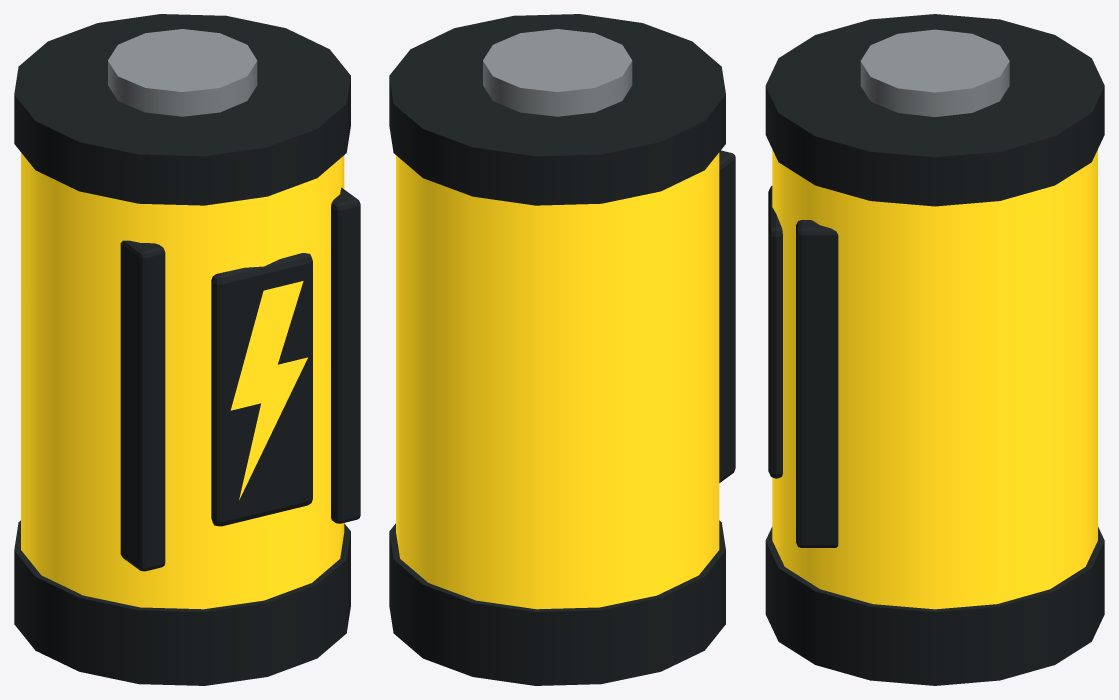
File: nitro_token.glb
3 renders of one model, left to right at view 1: azimuth 30°, elevation 25°; view 2: azimuth 150°, elevation 25°; view 3: azimuth 270°, elevation 25°, orthographic.
Parts seen in each view (by area): view 1: nitro_token__Black_print_and_polymer, nitro_token__Energy_yellow_enamel, nitro_token__Steel_contacts; view 2: nitro_token__Energy_yellow_enamel, nitro_token__Black_print_and_polymer, nitro_token__Steel_contacts; view 3: nitro_token__Energy_yellow_enamel, nitro_token__Black_print_and_polymer, nitro_token__Steel_contacts.
Boxes of the visible parts, x1,y1,x2,y2 form: nitro_token__Black_print_and_polymer: (14, 14, 360, 685); nitro_token__Energy_yellow_enamel: (21, 152, 344, 609); nitro_token__Steel_contacts: (108, 29, 257, 116); nitro_token__Energy_yellow_enamel: (396, 152, 719, 609); nitro_token__Black_print_and_polymer: (389, 14, 735, 685); nitro_token__Steel_contacts: (483, 29, 632, 116); nitro_token__Energy_yellow_enamel: (772, 149, 1097, 609); nitro_token__Black_print_and_polymer: (765, 14, 1104, 685); nitro_token__Steel_contacts: (860, 29, 1009, 116).
Bounding box in the file's own units: 0.25 × 0.45 × 0.251.
